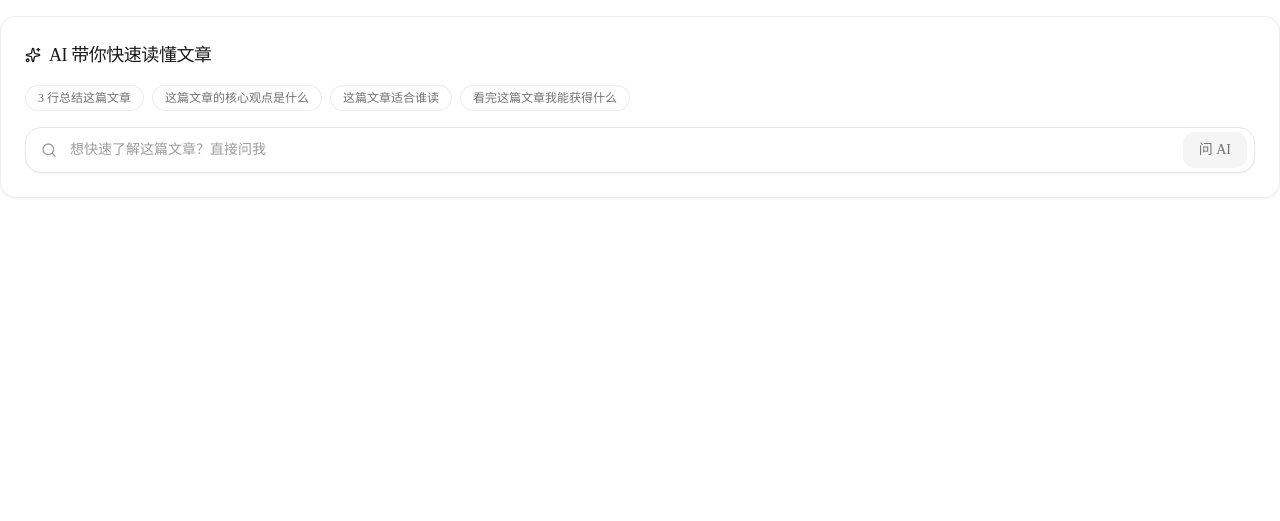
Test case: PageAIAssistantProvider › 新请求失败时保留旧回答，只额外展示统一错误文案
This screenshot has width=1280, height=521.
Type "第一次问题" into the field with placeholder "想快速了解这篇文章？直接问我" at (640, 150), box left=25, top=127, right=1255, bottom=173
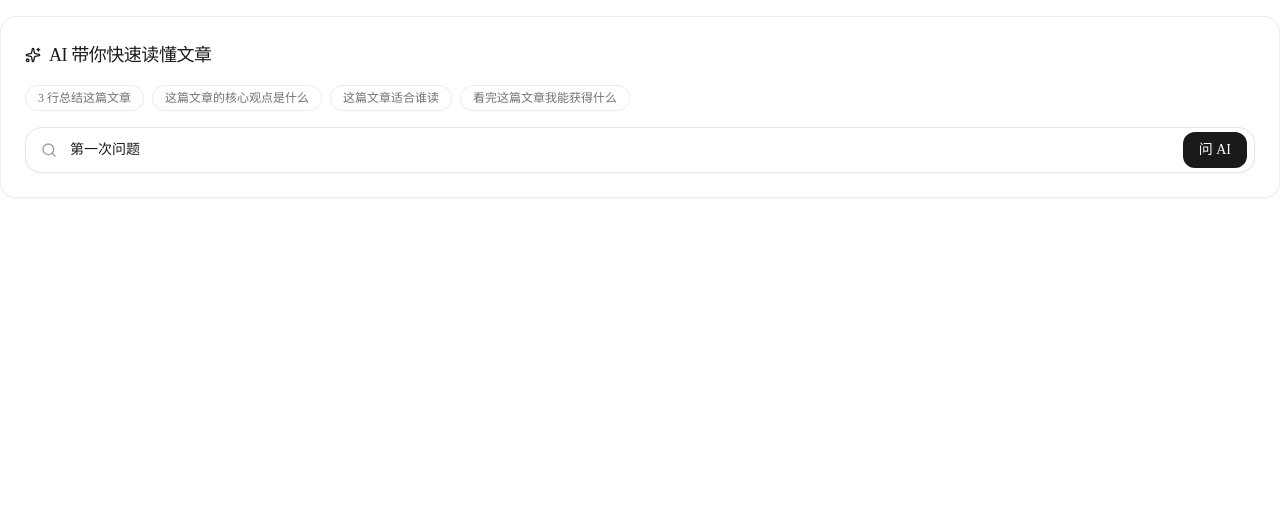
Click the button "问 AI" at (1215, 150), box left=1183, top=132, right=1247, bottom=168
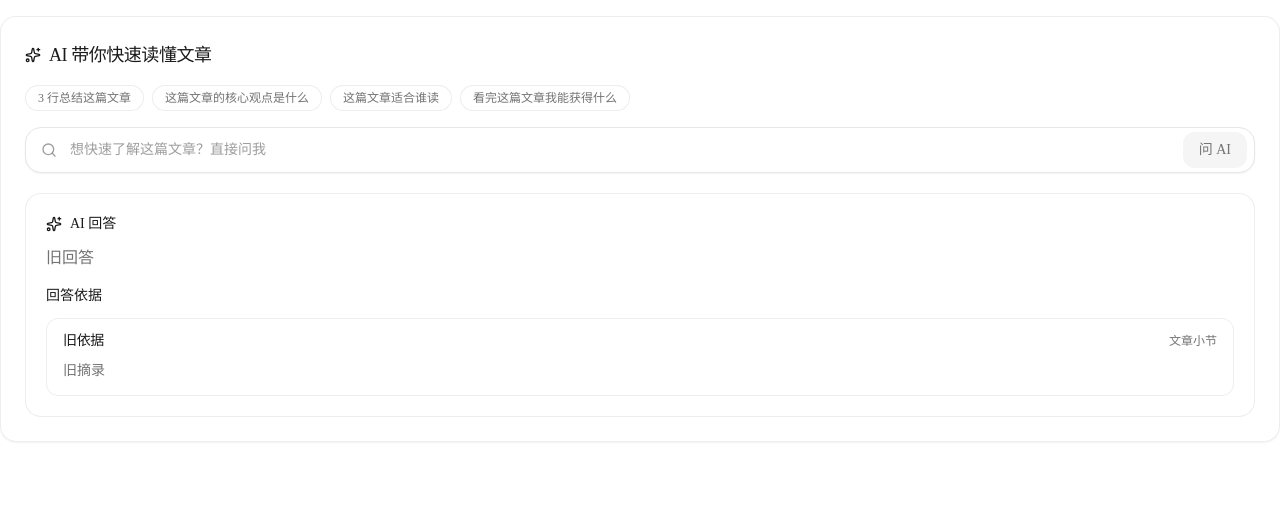
Expected: the text "旧回答" is shown, left=46, top=249, right=94, bottom=266
Expected: the heading "旧依据" is shown, left=63, top=331, right=104, bottom=351
Type "第二次问题" into the field with placeholder "想快速了解这篇文章？直接问我" at (640, 150), box left=25, top=127, right=1255, bottom=173
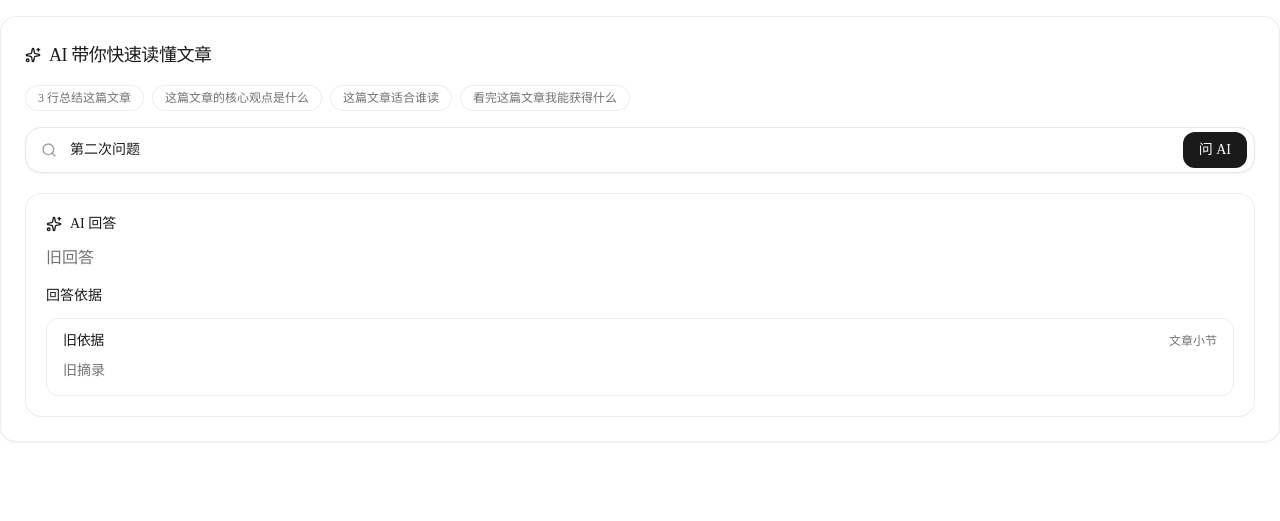
Click the button "问 AI" at (1215, 150), box left=1183, top=132, right=1247, bottom=168
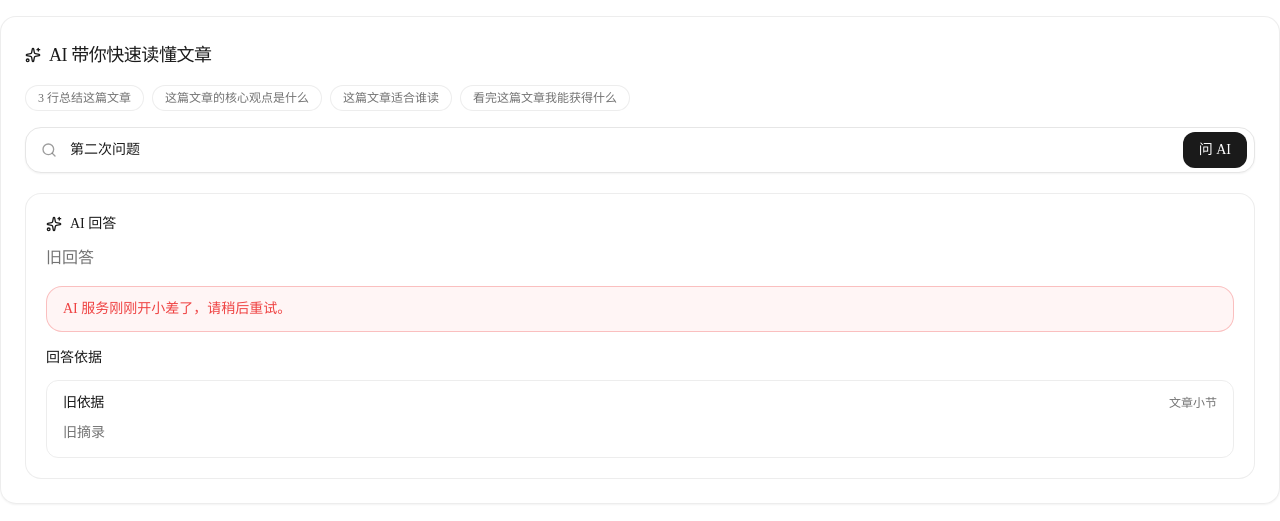
Expected: the text "旧回答" is shown, left=46, top=249, right=94, bottom=266
Expected: the heading "旧依据" is shown, left=63, top=393, right=104, bottom=413
Expected: the text "AI 服务刚刚开小差了，请稍后重试。" is shown, left=46, top=286, right=1234, bottom=332
